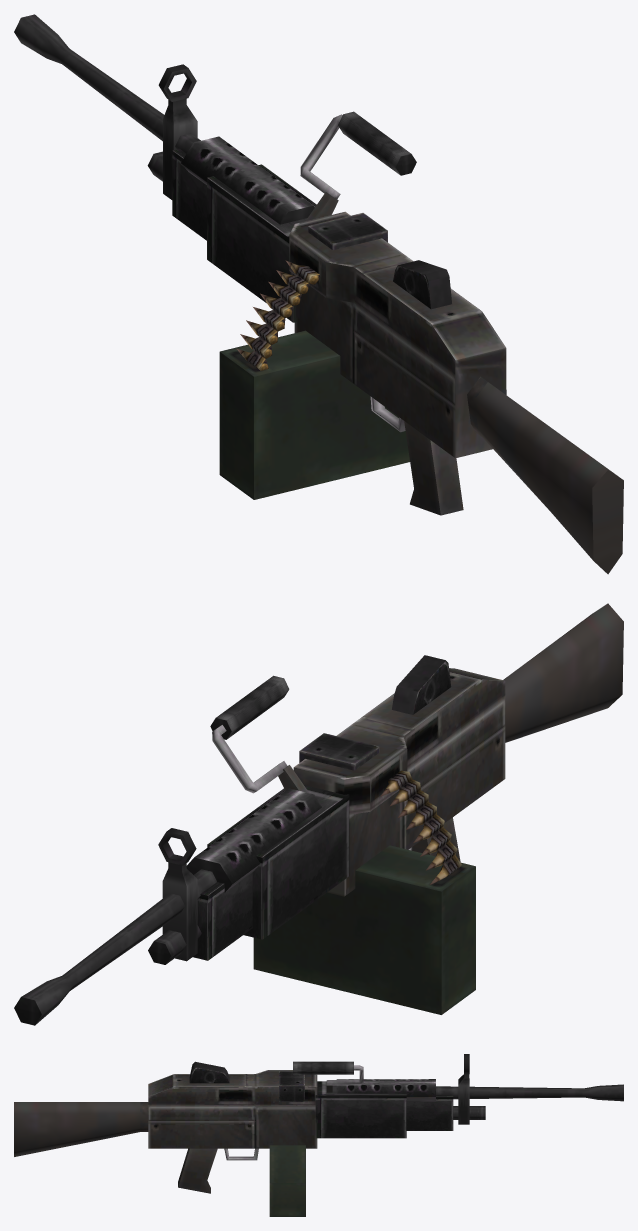
Rendered from SAW.FBX.
The picture shows the model from 3 angles, top to bottom: view 1: azimuth 30°, elevation 25°; view 2: azimuth 150°, elevation 25°; view 3: azimuth 270°, elevation 25°; orthographic projection. The views are drawn at different scales.
Parts seen in each view (by area): view 1: SAW; view 2: SAW; view 3: SAW.
Boxes of the visible parts, <box> form: SAW: <box>14,14,623,574</box>; SAW: <box>14,603,623,1025</box>; SAW: <box>14,1054,623,1216</box>.
Bounding box in the file's own units: 14.79 × 21.57 × 79.19.
